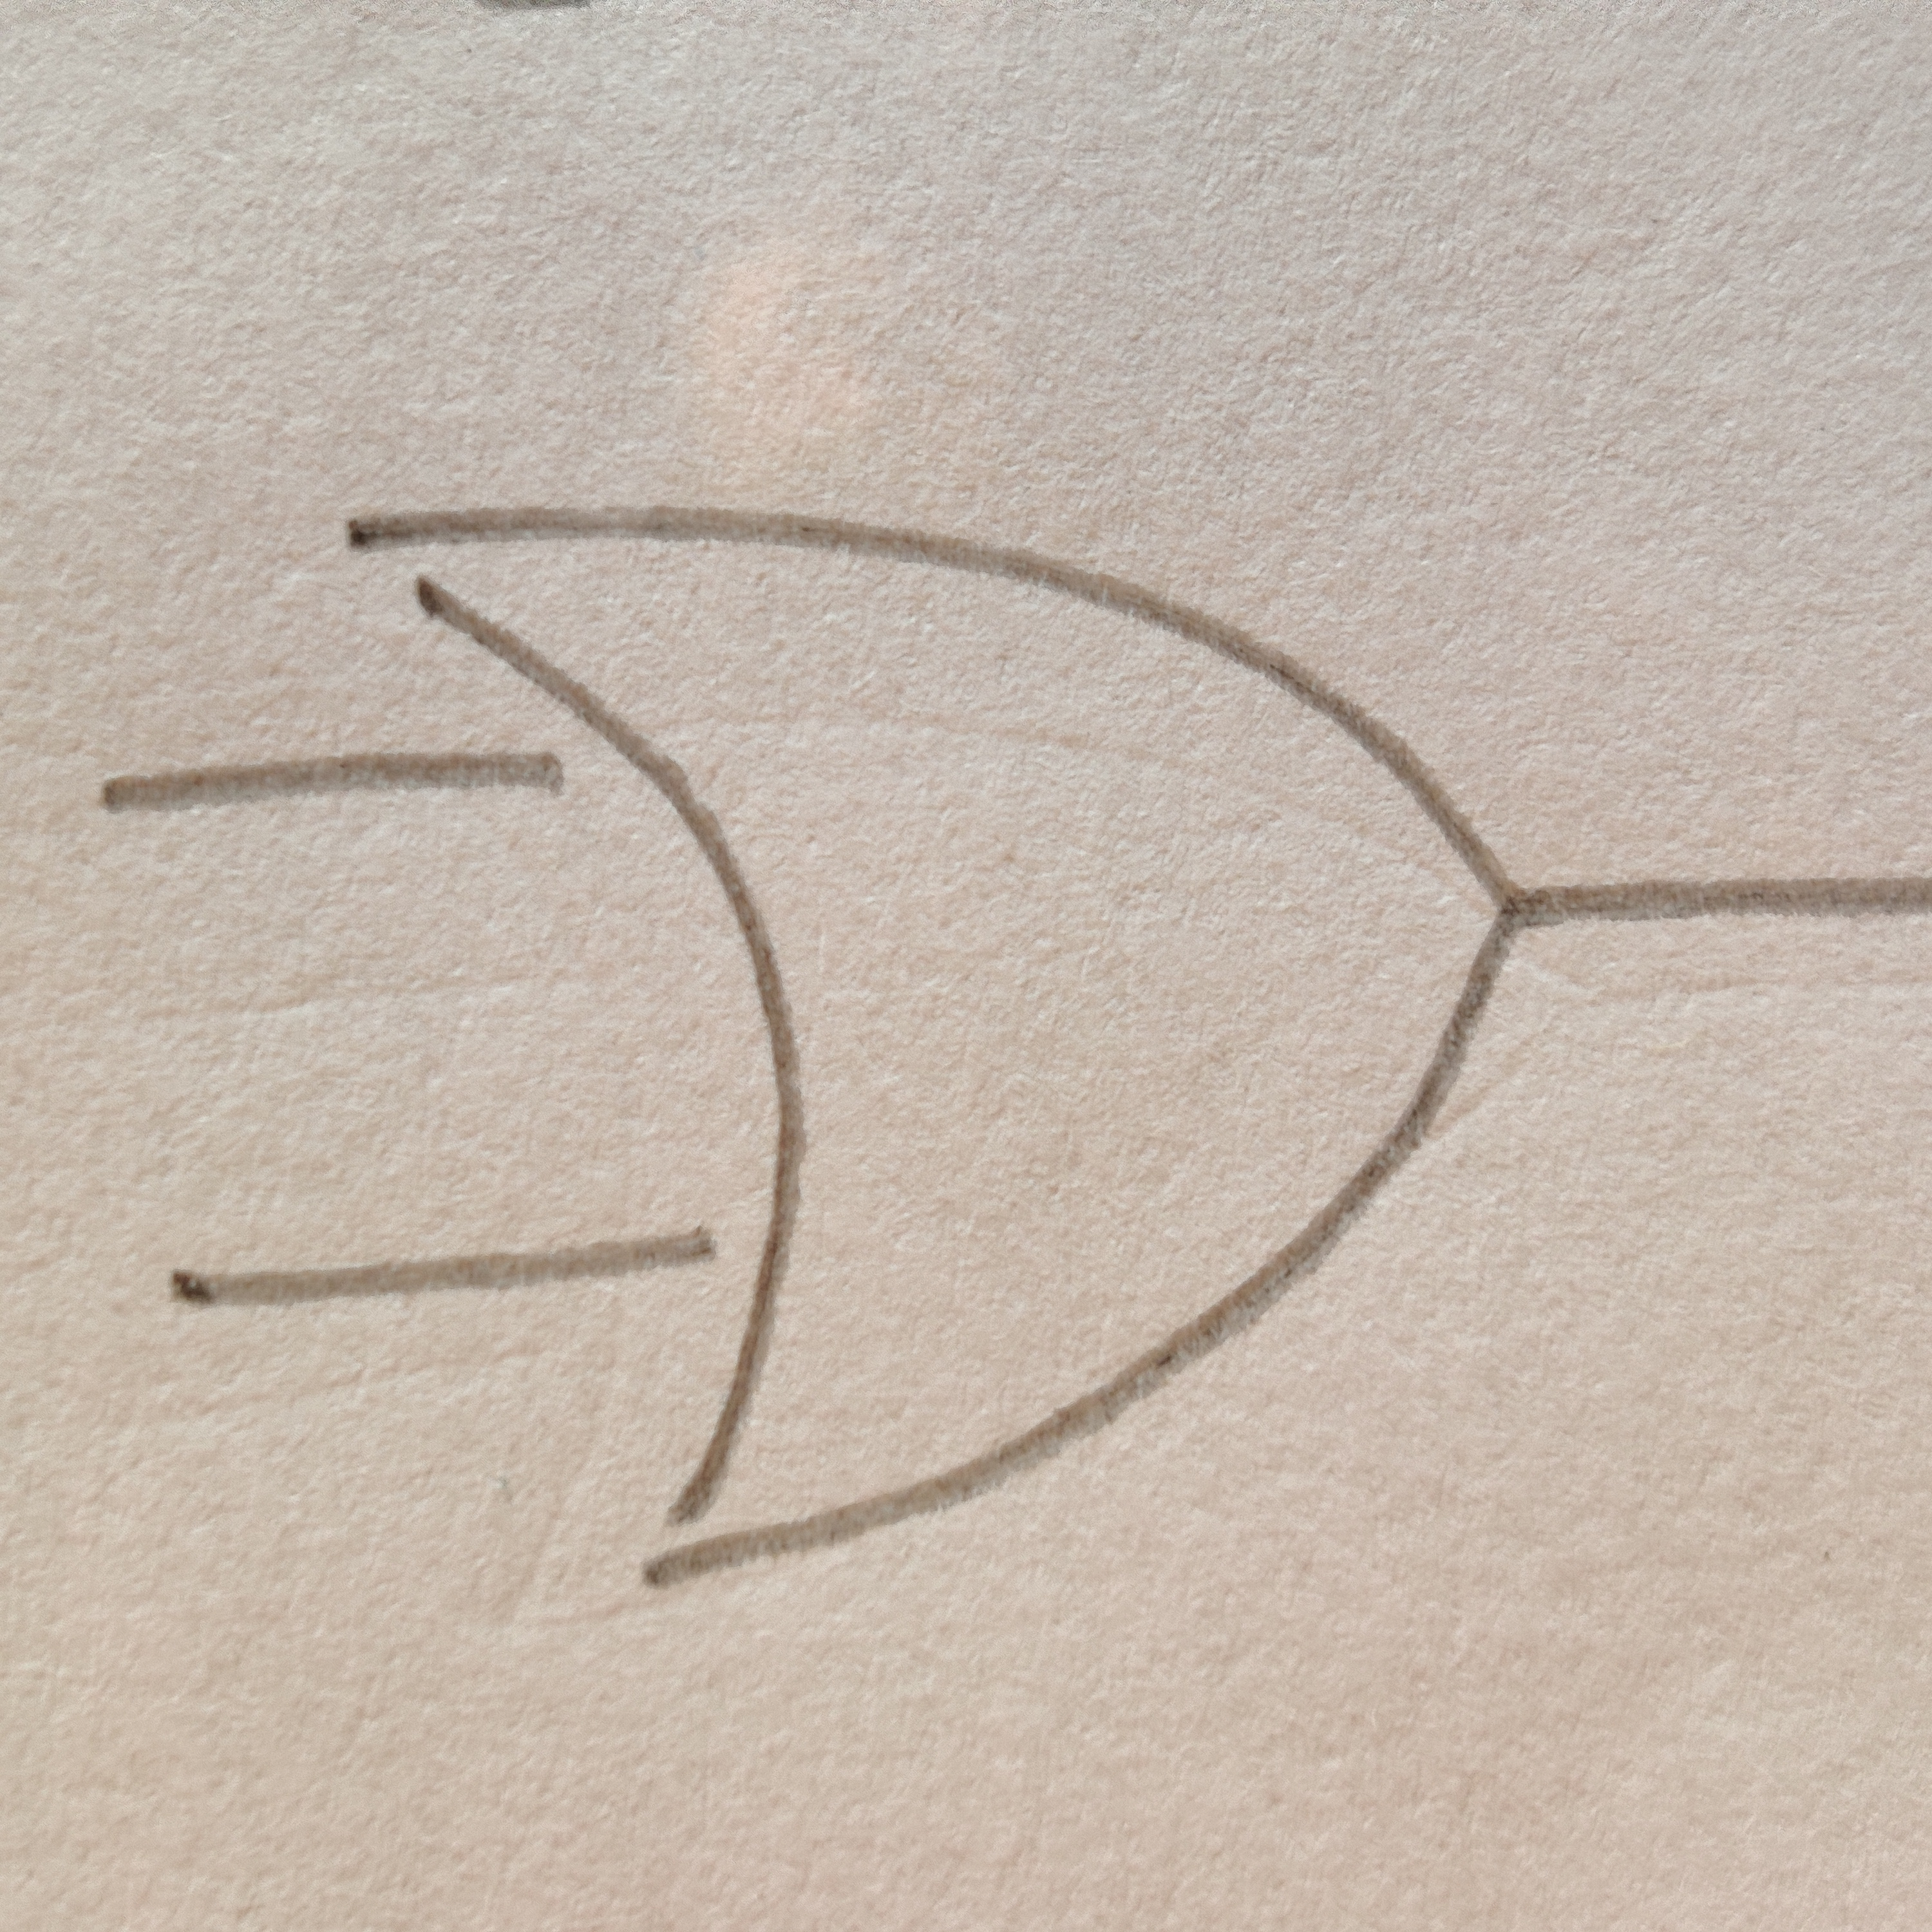or: (357, 511, 1514, 1589)
